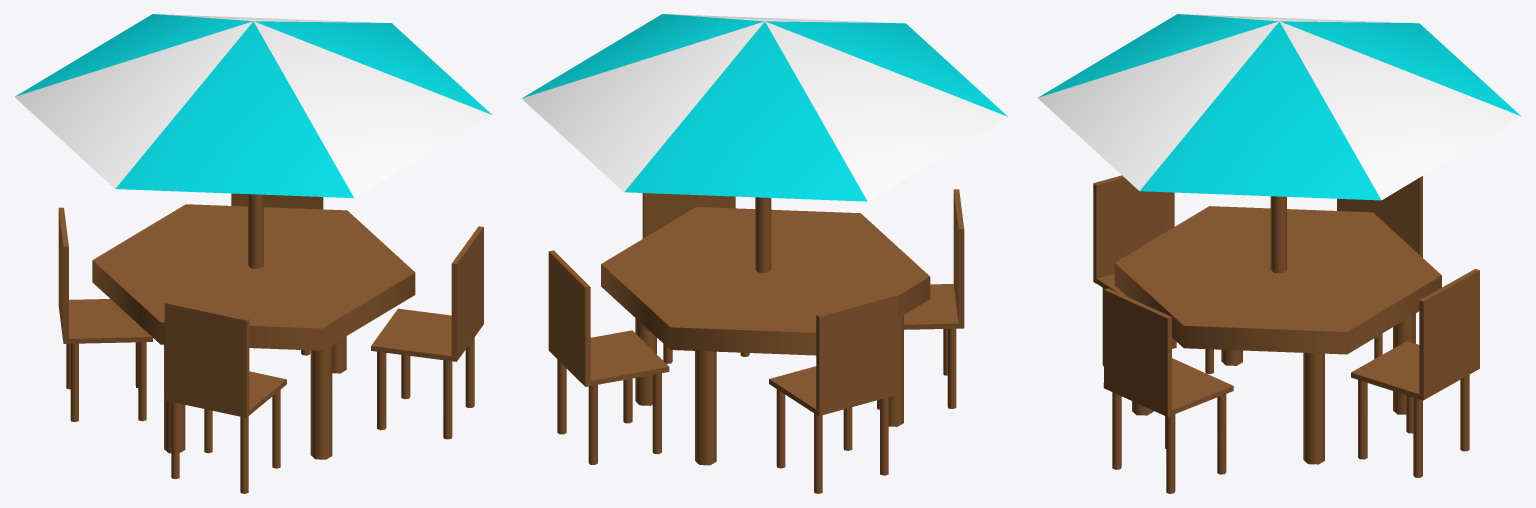
The model's file is praia_mesa.FBX.
The picture shows the model from 3 angles, left to right: view 1: azimuth 30°, elevation 25°; view 2: azimuth 150°, elevation 25°; view 3: azimuth 270°, elevation 25°; orthographic projection.
Visible parts, largest first — view 1: Praia_Mesa; view 2: Praia_Mesa; view 3: Praia_Mesa.
Boxes of the visible parts, bbox=[...] form: Praia_Mesa: bbox=[15, 14, 492, 493]; Praia_Mesa: bbox=[521, 14, 1008, 493]; Praia_Mesa: bbox=[1038, 14, 1521, 493].
Bounding box in the file's own units: 1.92 × 2.11 × 1.88.
